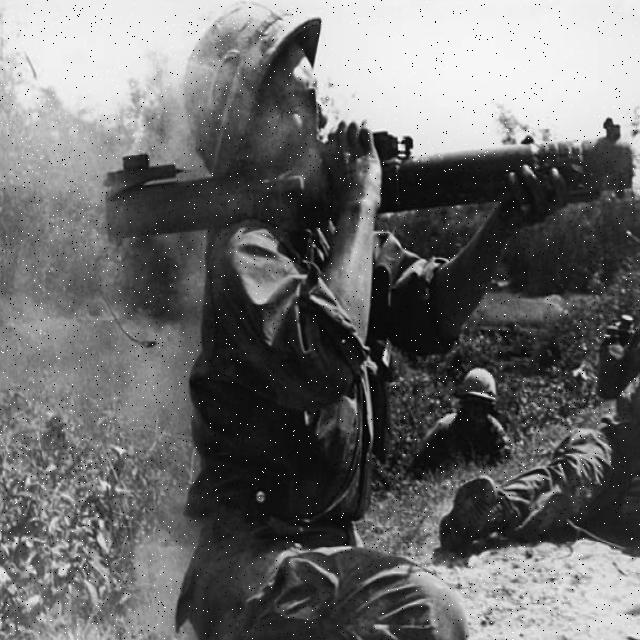bazooka: (107, 133, 638, 244)
